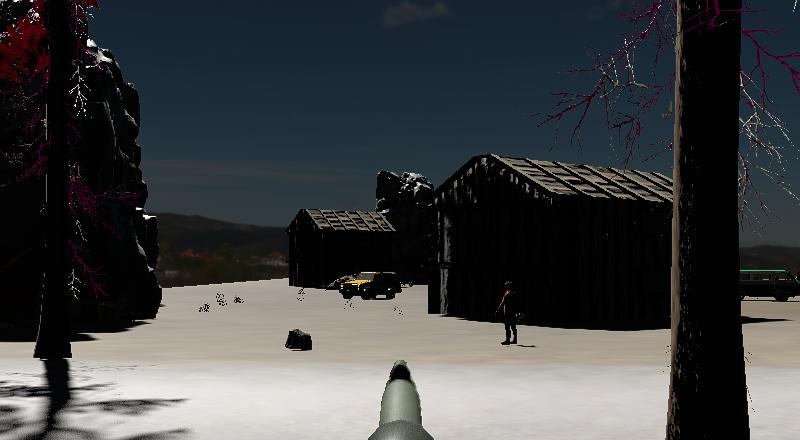Human: (492, 276, 525, 349)
car: (337, 267, 404, 303), (738, 267, 799, 302)
